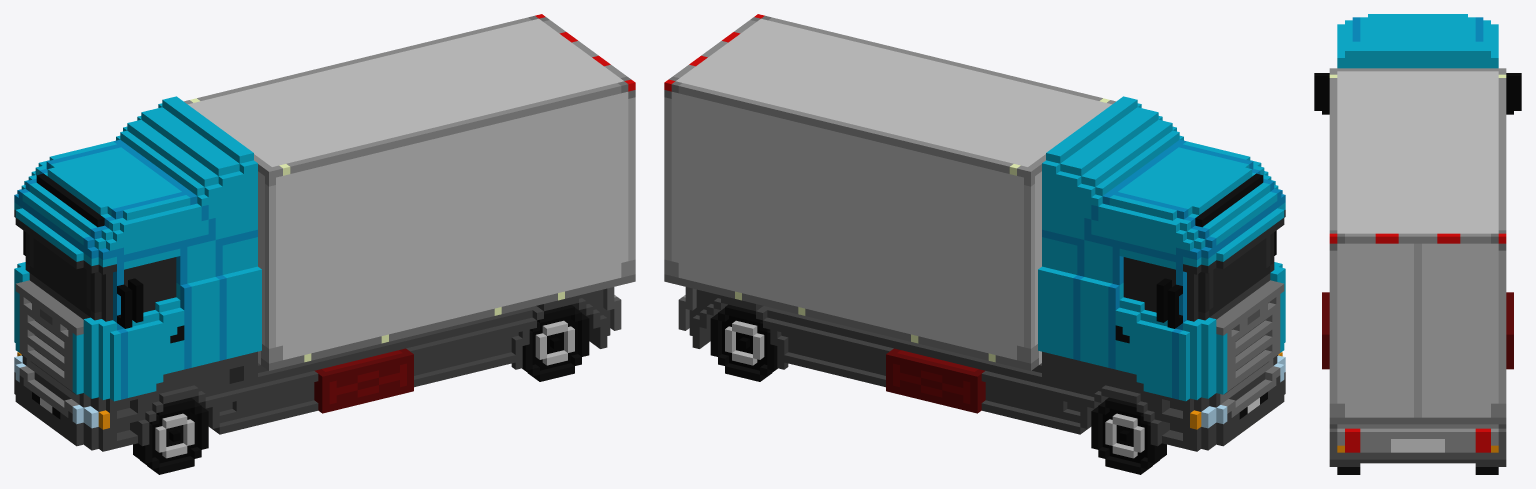
The model's file is car_lkw_t1_blue.obj.
The picture shows the model from 3 angles, left to right: view 1: azimuth 30°, elevation 25°; view 2: azimuth 150°, elevation 25°; view 3: azimuth 270°, elevation 25°; orthographic projection. The views are drawn at different scales.
Bounding box in the file's own units: 7.7 × 4 × 2.7.
Materials: 1 (1 with a texture image).
